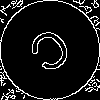C: (25, 25, 81, 83)
